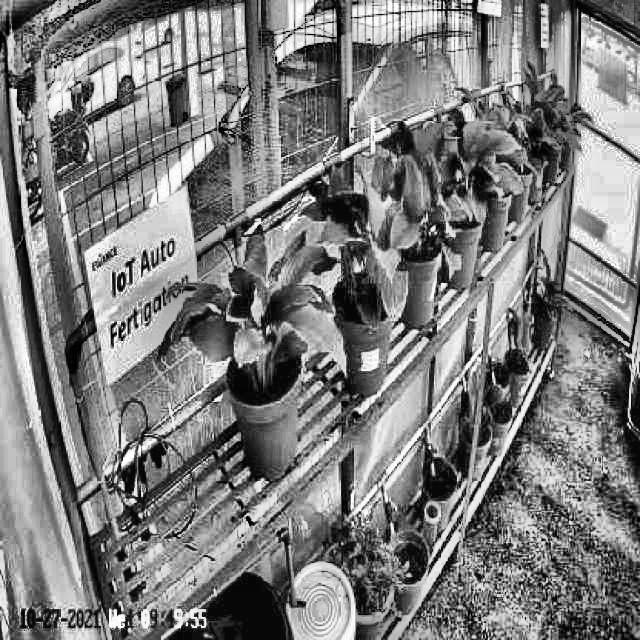plants: (156, 228, 347, 407), (300, 166, 409, 332), (366, 123, 460, 279), (422, 112, 524, 226)
